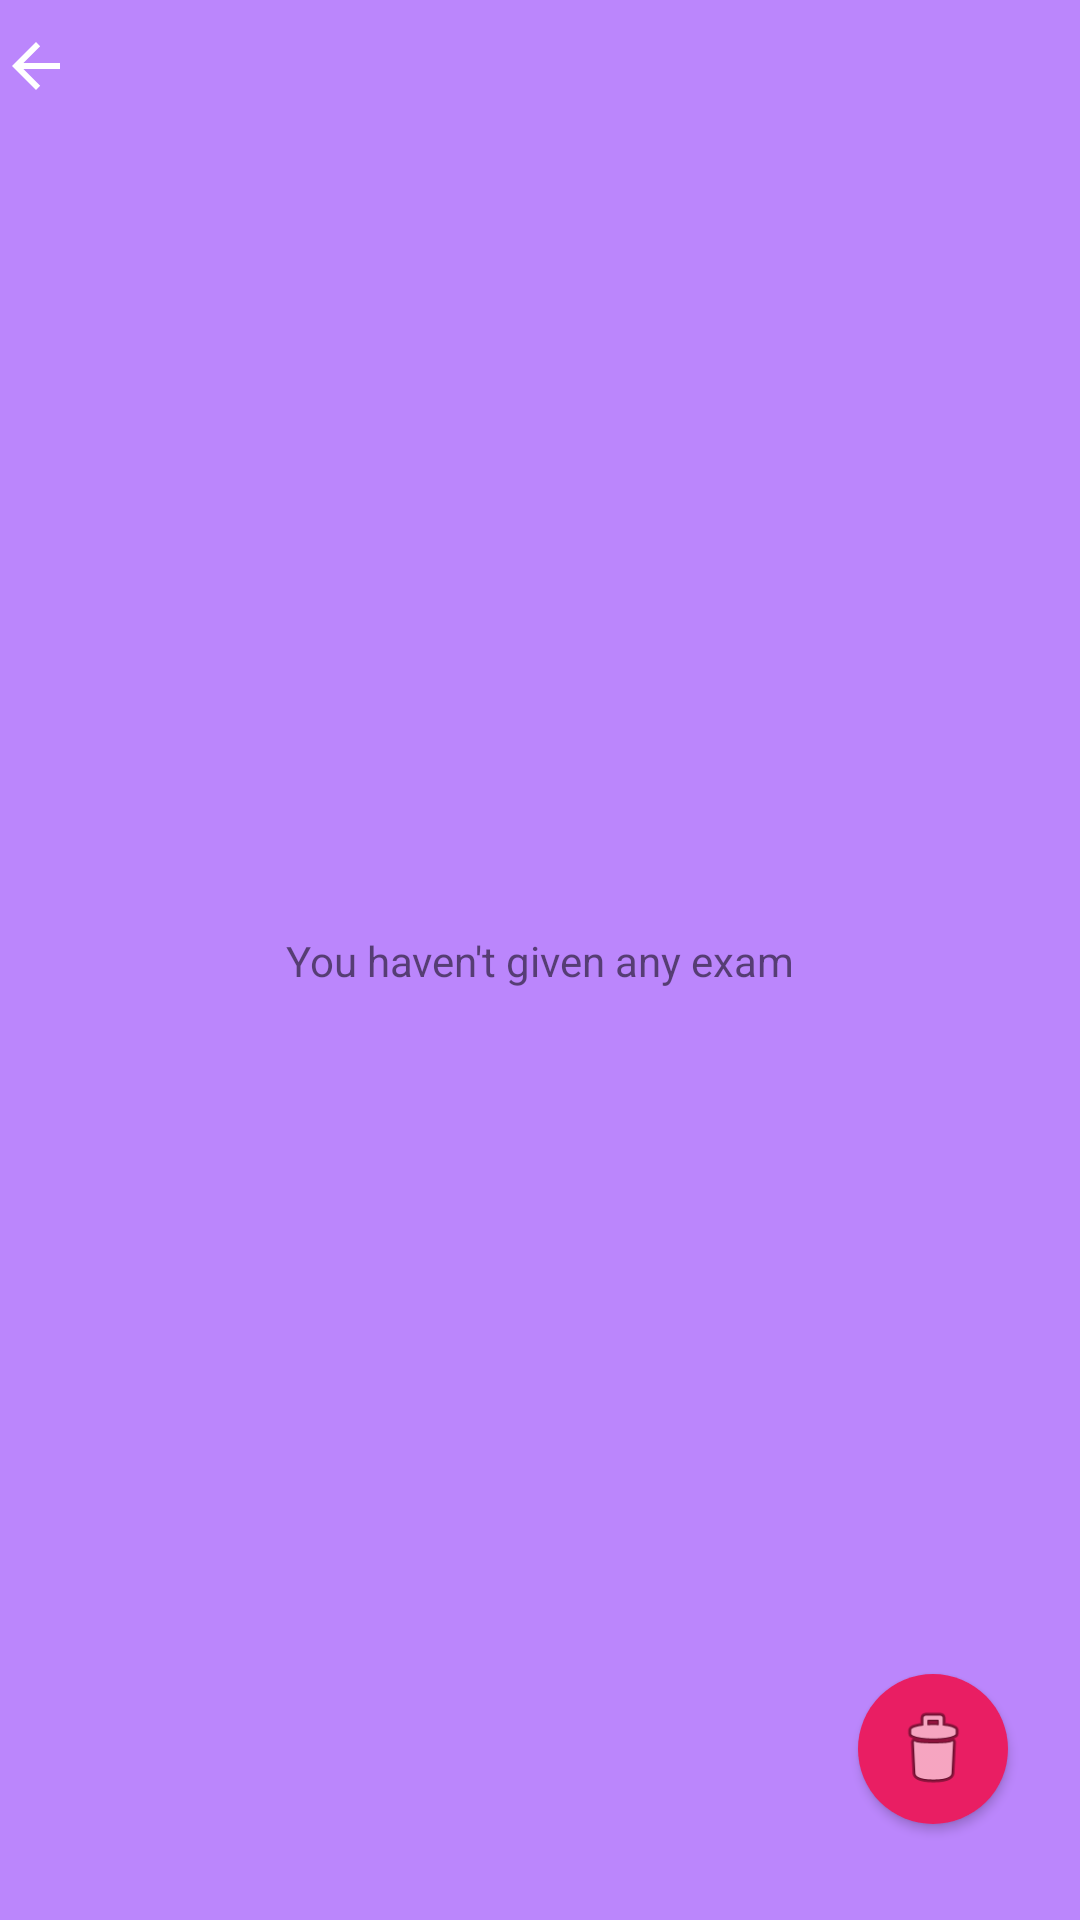

Where icons sit on this 1080 x 1920 app screen, as {"left": x1, "top": y1, "right": x2, "bottom": y2}:
delete: {"left": 858, "top": 1674, "right": 1008, "bottom": 1824}
